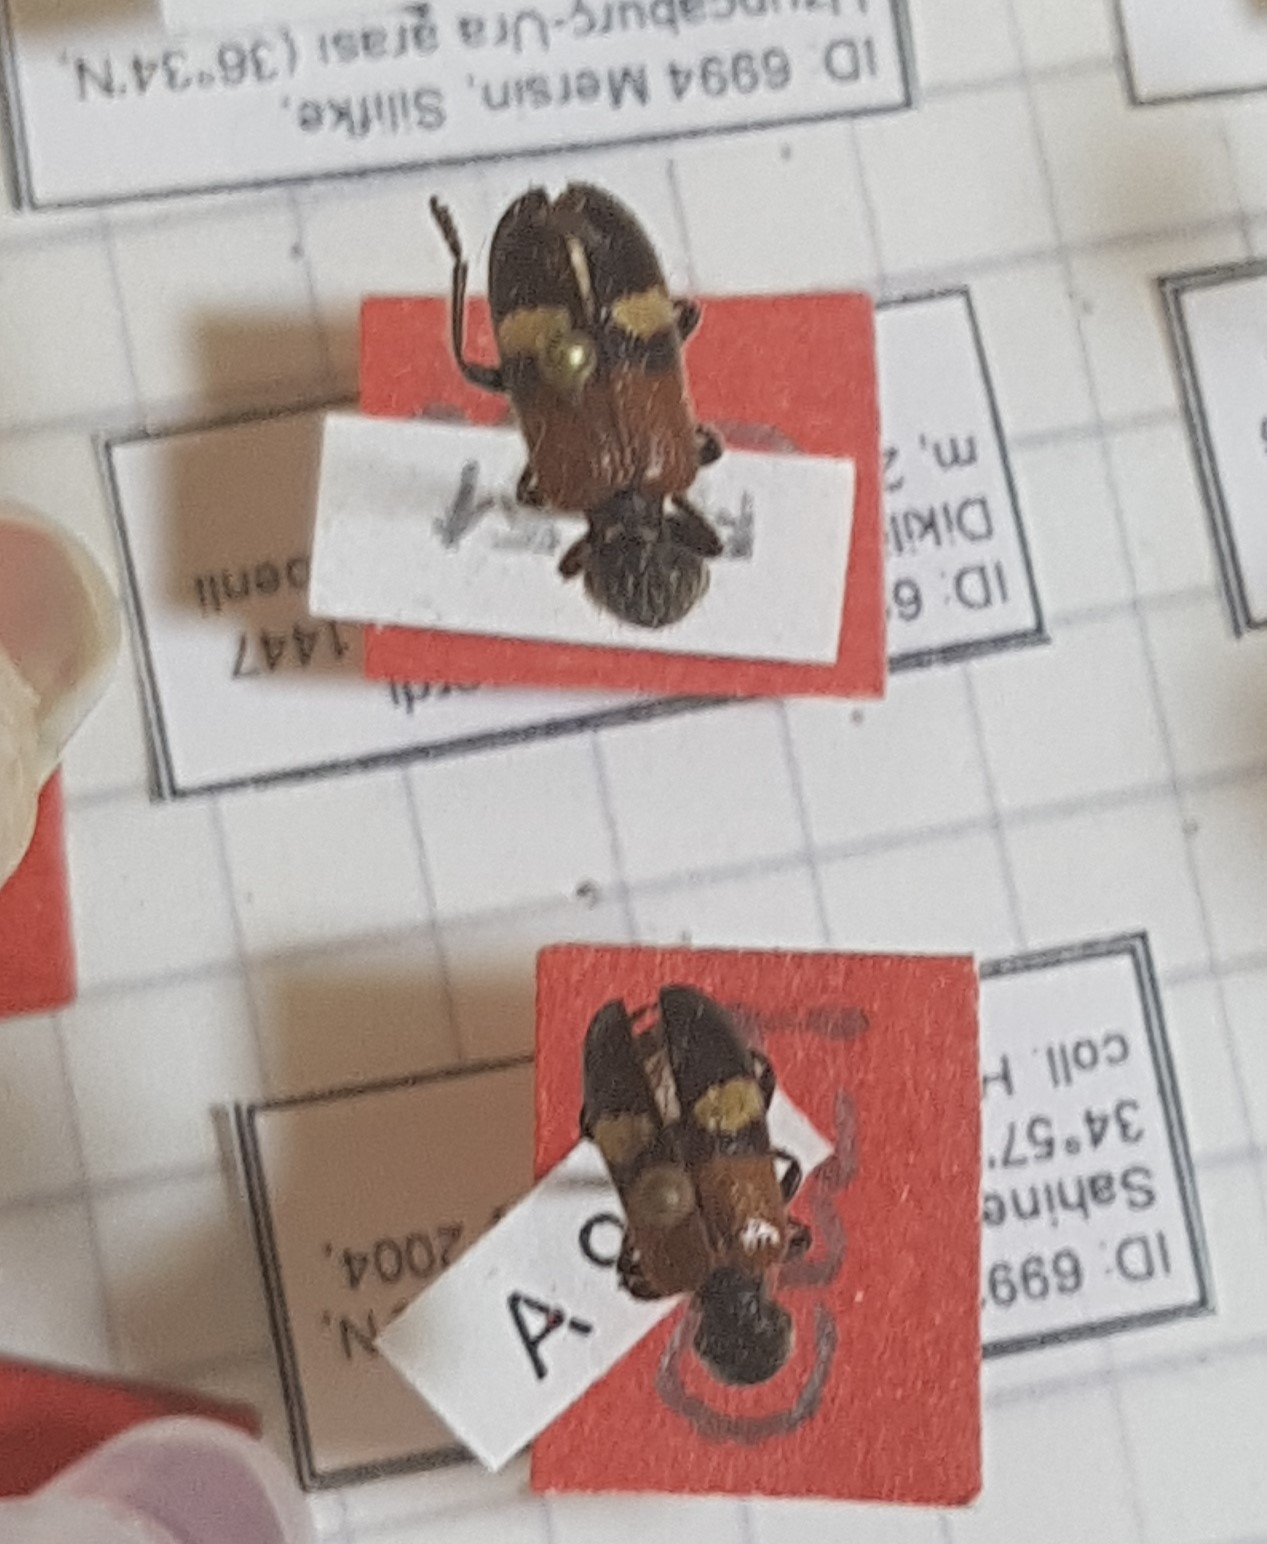opilo_taeniatus: (426, 141, 743, 636), (577, 971, 816, 1404)
